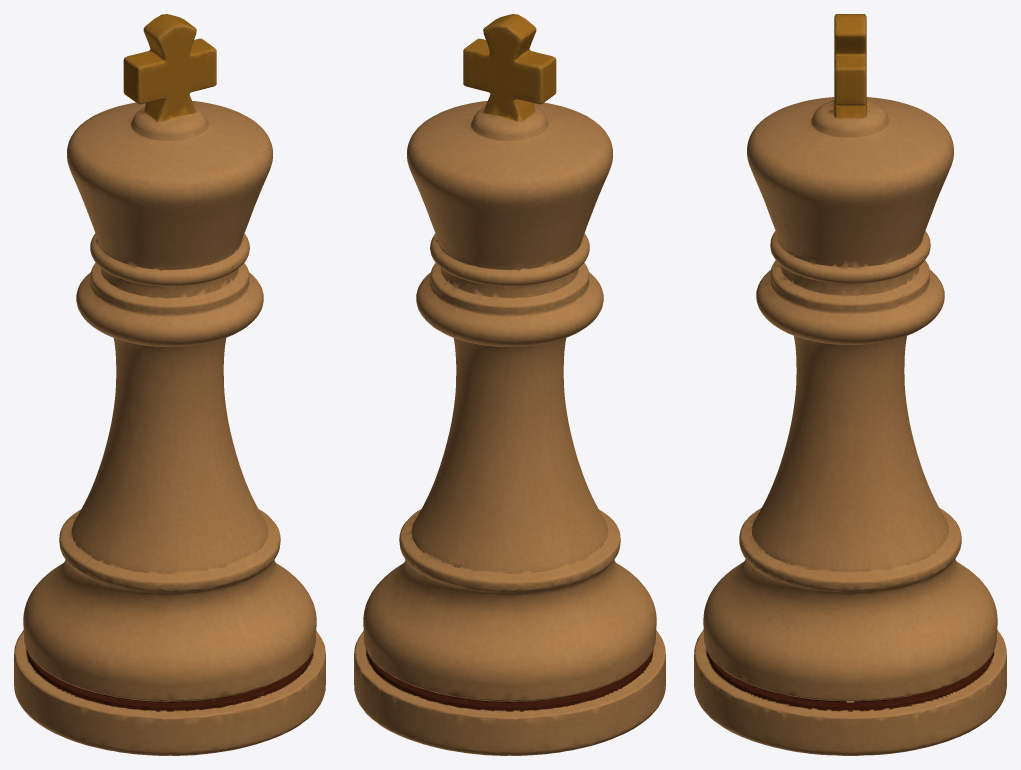
File: 01_king_light.glb
The picture shows the model from 3 angles, left to right: view 1: azimuth 30°, elevation 25°; view 2: azimuth 150°, elevation 25°; view 3: azimuth 270°, elevation 25°; orthographic projection.
Visible parts, largest first — view 1: world; view 2: world; view 3: world.
Part boxes in pixels (x1,y1,x2,y2): world: (14,14,325,755); world: (354,14,665,755); world: (694,14,1006,755).
Size of the model in its own units: 0.4205 by 1 by 0.4202.
Materials: 1 (1 with a texture image).
